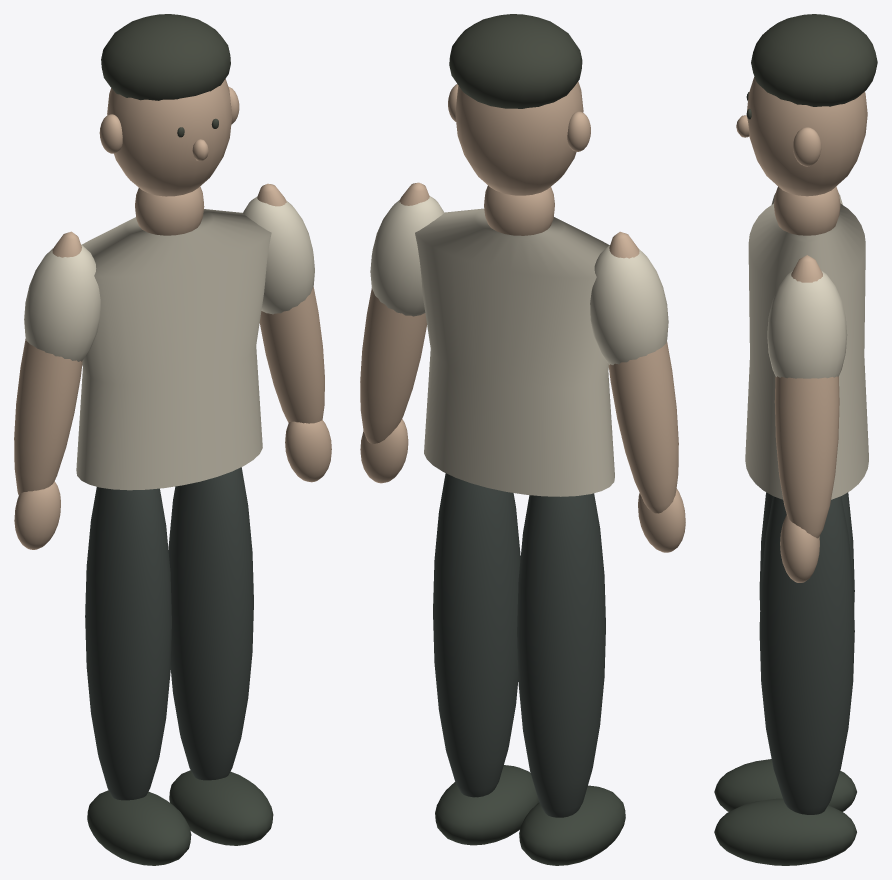
The model's file is look-1.glb.
3 renders of one model, left to right at view 1: azimuth 30°, elevation 25°; view 2: azimuth 150°, elevation 25°; view 3: azimuth 270°, elevation 25°, orthographic. The views are drawn at different scales.
Size of the model in its own units: 0.7643 by 1.89 by 0.343.
